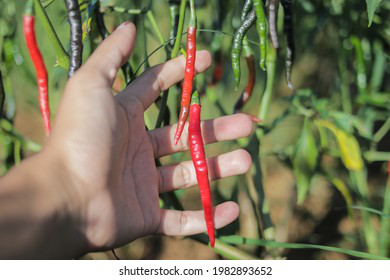Cabai: (170, 26, 233, 235)
